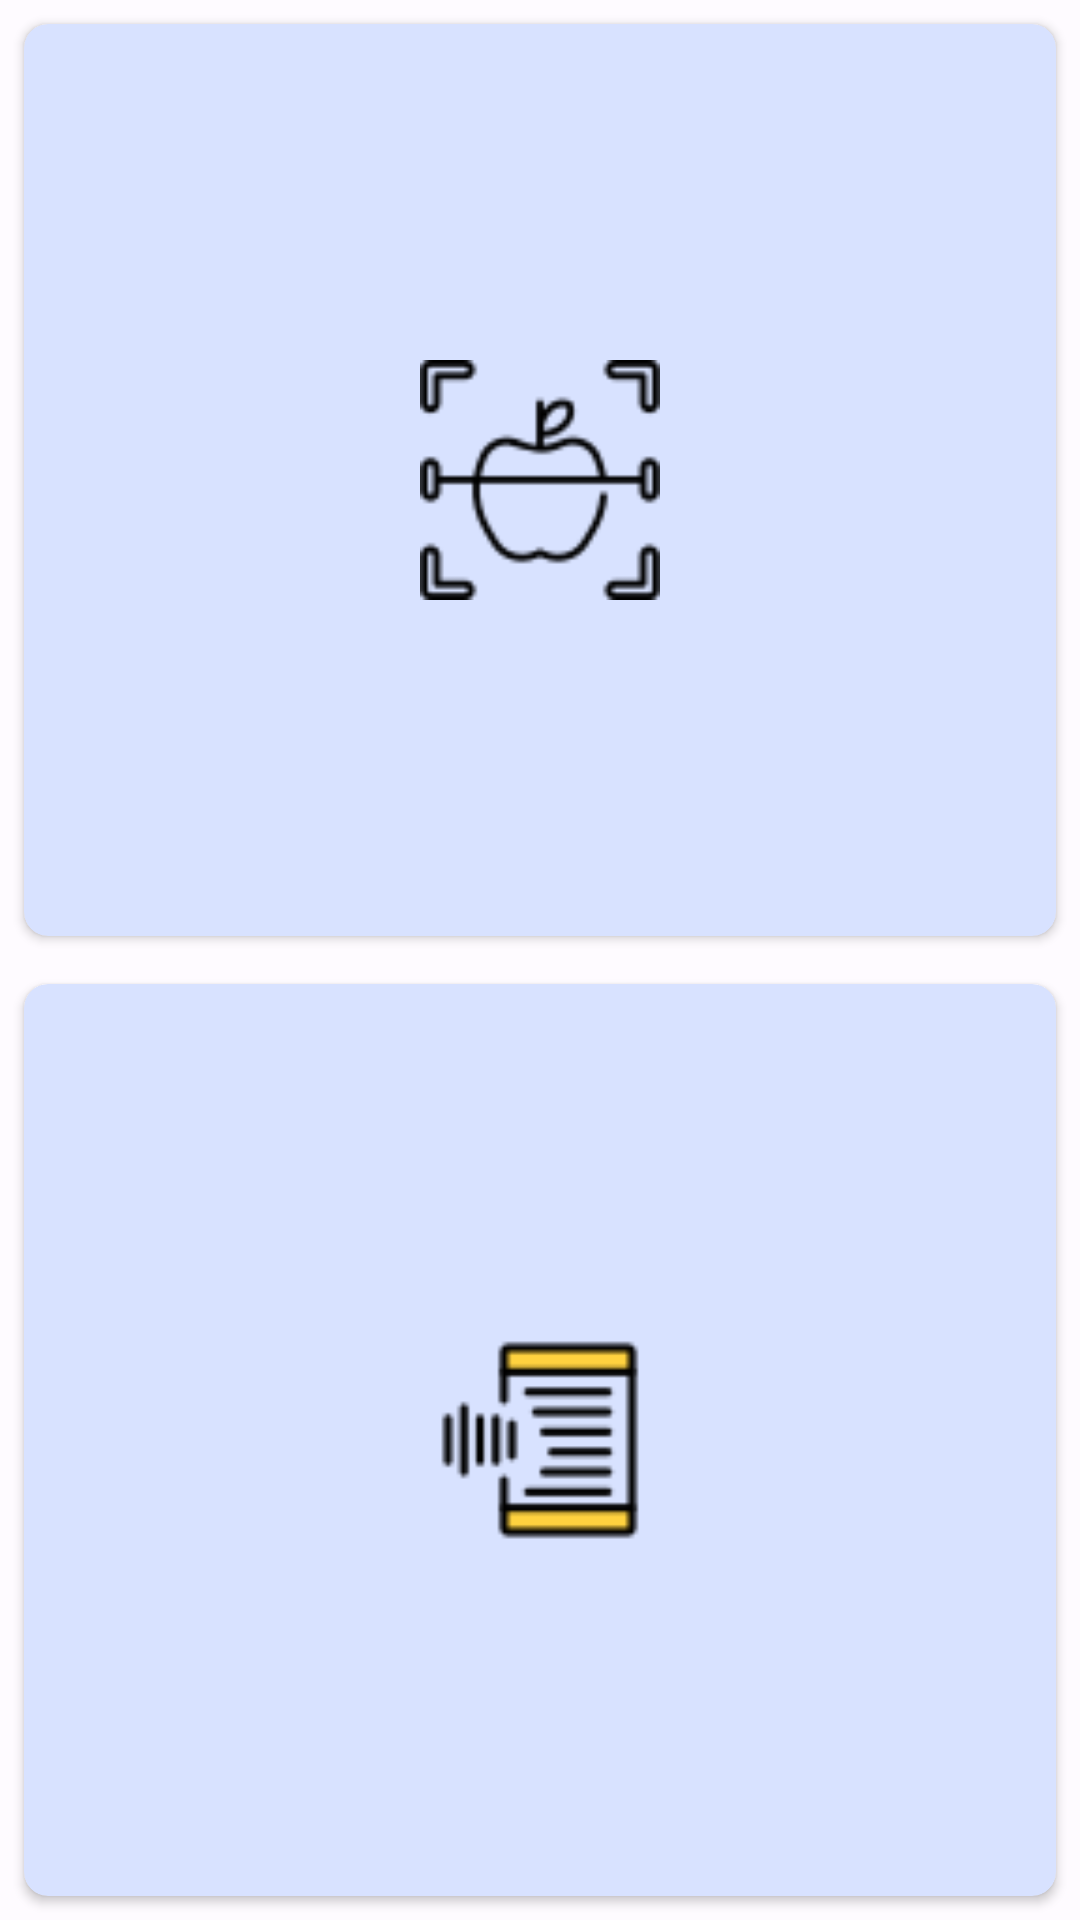

Icons on this 1080*1920 Android screen, each with the point to tap as point (x, y):
object detection: point (540, 480)
